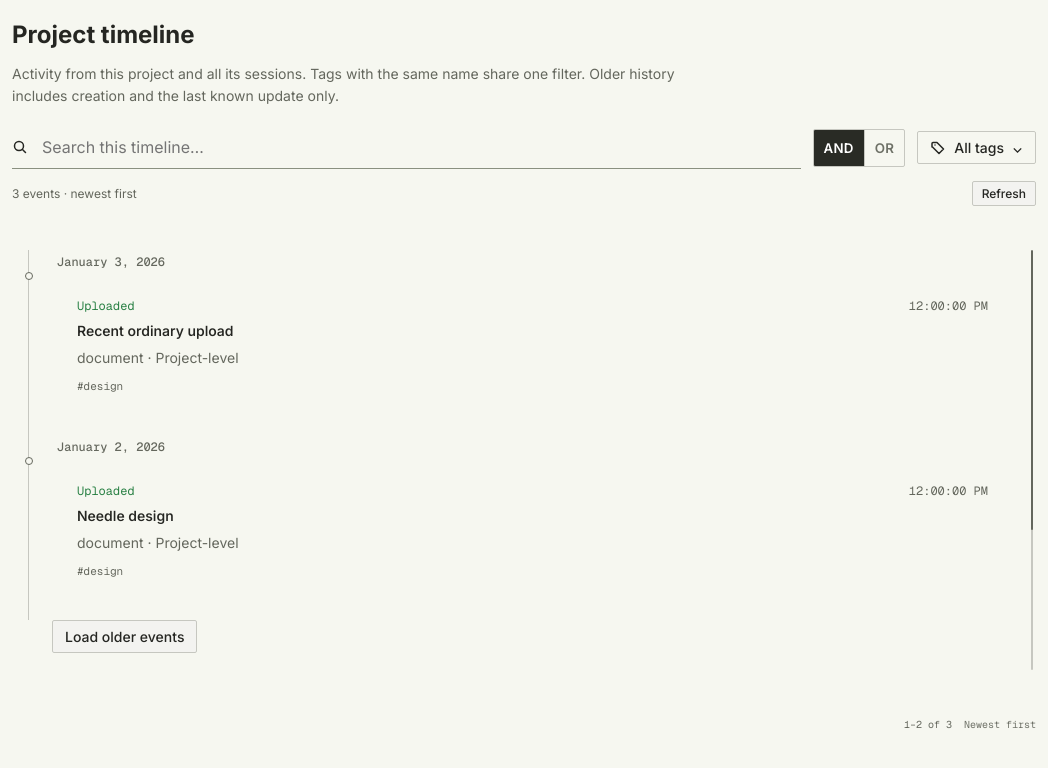
Test: reports no matches without removing history
The width and height of the screenshot is (1048, 768).
Expected: the heading "Recent ordinary upload" is shown, [77,322,234,339]
In the field named "Search timeline": (420, 147) [40,136,800,158], type "absent"
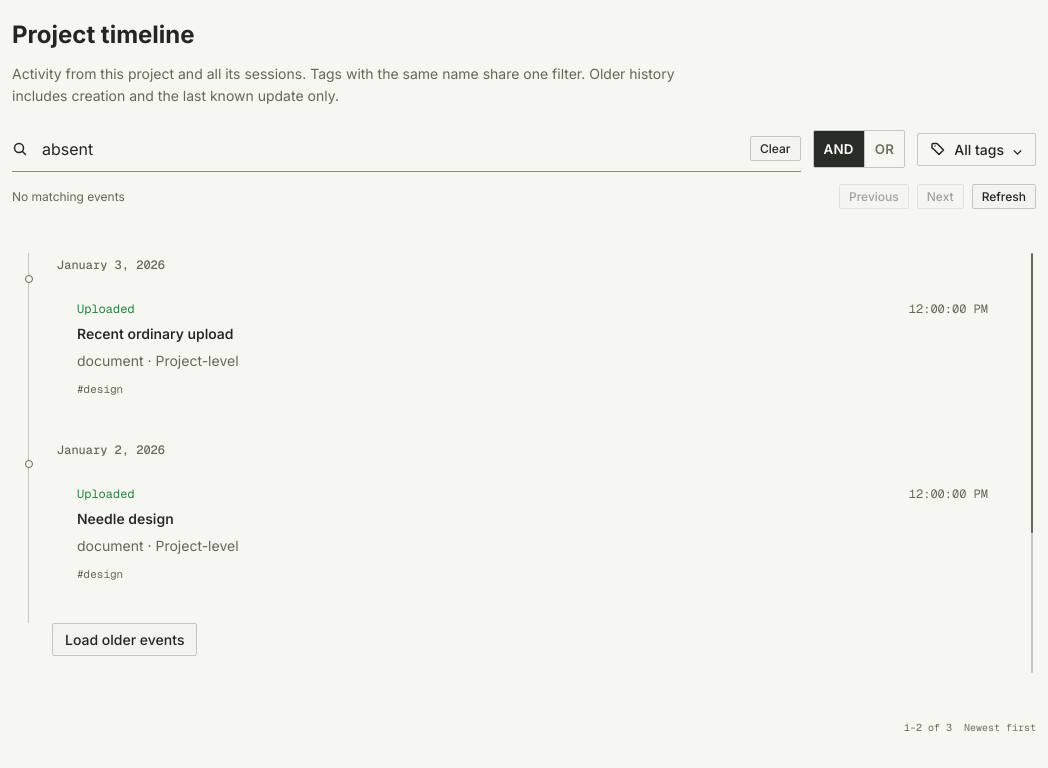
Expected: the heading "Recent ordinary upload" is shown, [77,325,234,342]
Now the text "No matching events" is shown, box [12,189,125,204]
